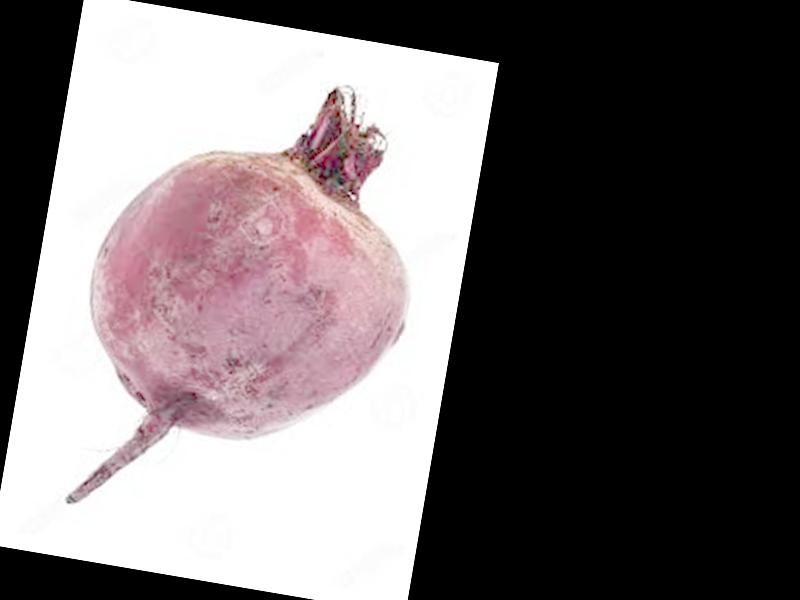Beet: (56, 52, 438, 548)
